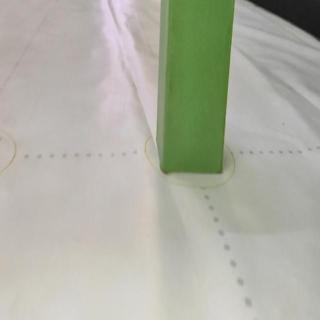greenbox: (155, 0, 234, 175)
